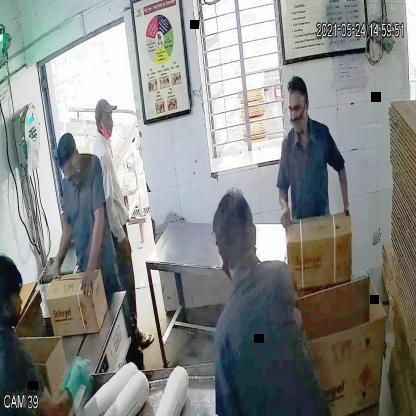goggles: (284, 99, 308, 118)
